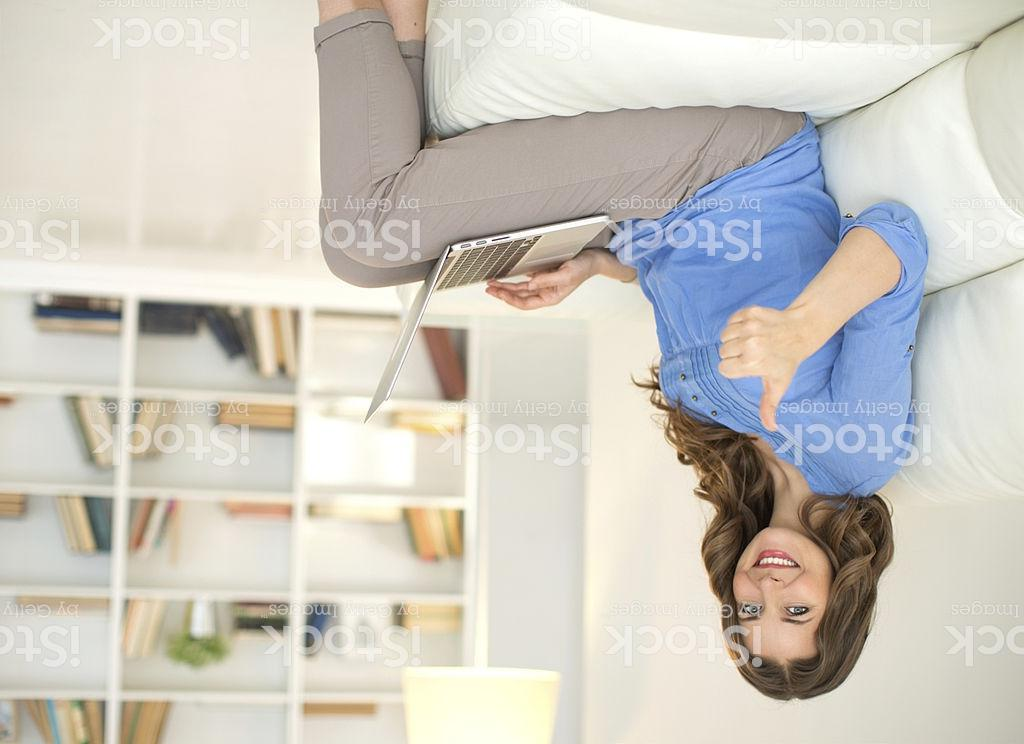thumbsdown: (717, 304, 802, 433)
